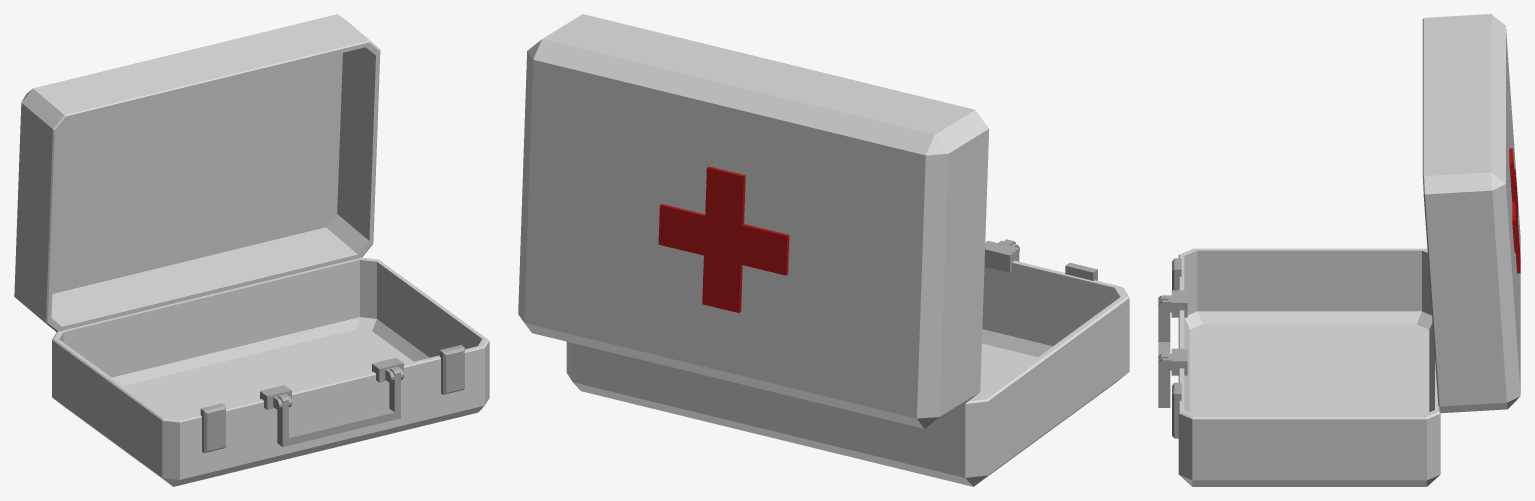
Rendered from Medicine_Chest_Opened_mat.fbx.
3 views of the same model, side by side, from view 1: azimuth 30°, elevation 25°; view 2: azimuth 150°, elevation 25°; view 3: azimuth 270°, elevation 25° (orthographic). The views are drawn at different scales.
Parts seen in each view (by area): view 1: Medicine_Chest_Opened_mat; view 2: Medicine_Chest_Opened_mat; view 3: Medicine_Chest_Opened_mat.
Boxes of the visible parts, left/top/right/bottom form: Medicine_Chest_Opened_mat: left=14, top=14, right=489, bottom=486; Medicine_Chest_Opened_mat: left=518, top=14, right=1129, bottom=486; Medicine_Chest_Opened_mat: left=1158, top=14, right=1520, bottom=486.
Bounding box in the file's own units: 24.9 × 21.49 × 22.44.
